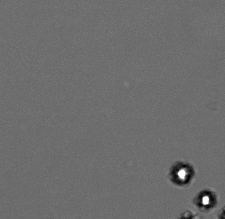Living Cell: (170, 162, 194, 185), (197, 190, 215, 208)
